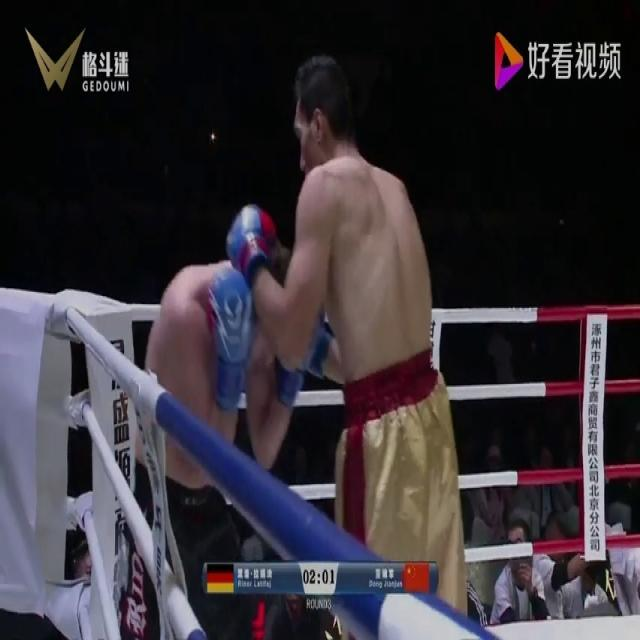fight: (126, 48, 466, 639)
